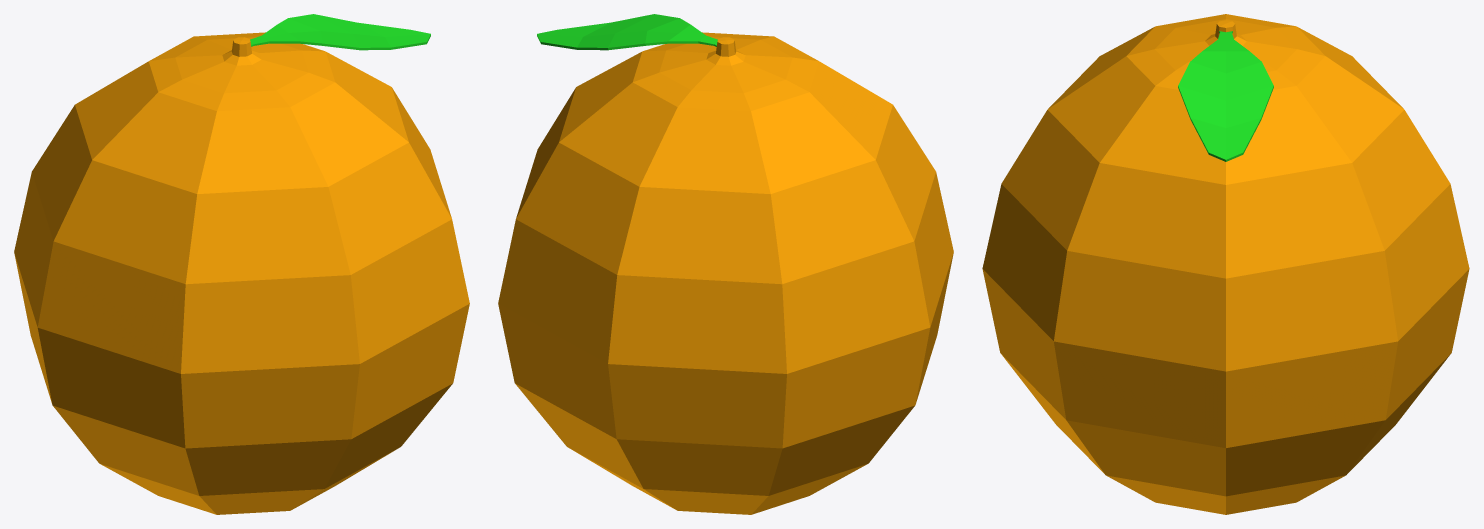
Rendered from portakal.fbx.
The picture shows the model from 3 angles, left to right: view 1: azimuth 30°, elevation 25°; view 2: azimuth 150°, elevation 25°; view 3: azimuth 270°, elevation 25°; orthographic projection. The views are drawn at different scales.
Parts seen in each view (by area): view 1: Orange; view 2: Orange; view 3: Orange.
Part boxes in pixels (bbox=[...]): Orange: bbox=[14, 14, 469, 514]; Orange: bbox=[498, 14, 953, 514]; Orange: bbox=[982, 14, 1469, 514].
Size of the model in its own units: 8.11 by 8.26 by 8.11.
